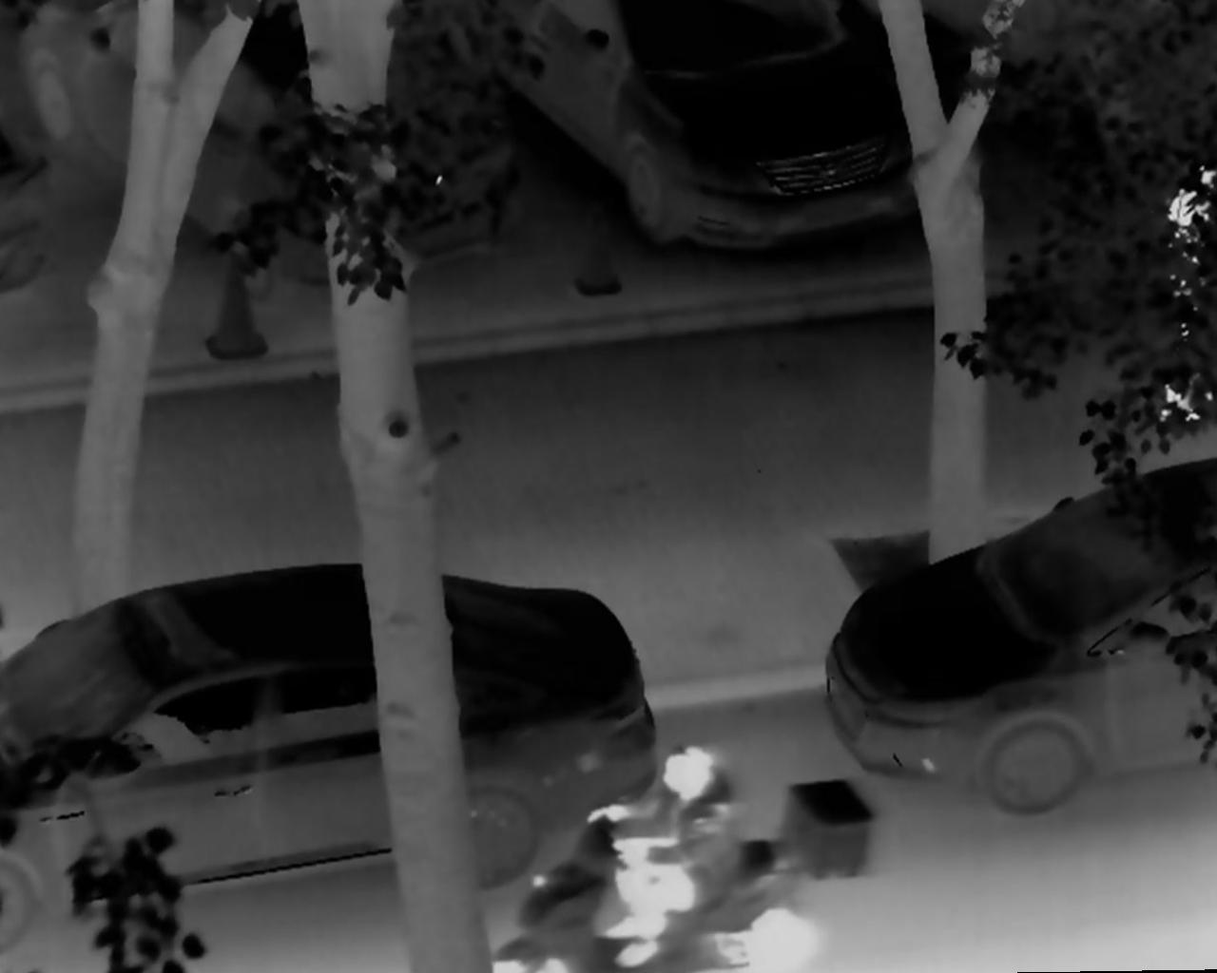person: (581, 741, 738, 970), (1139, 139, 1217, 440)
